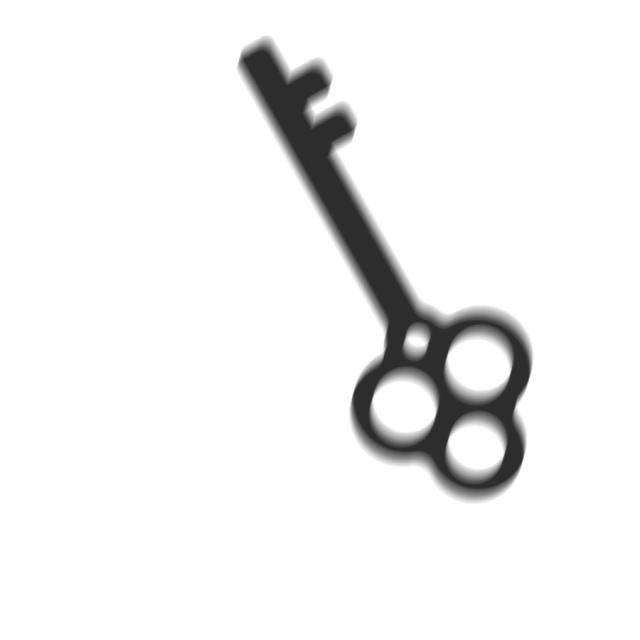key: (229, 30, 543, 512)
